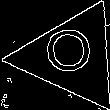O_S: (45, 30, 97, 83)
